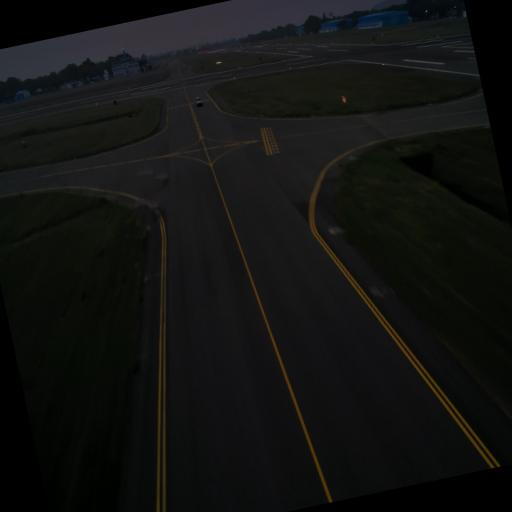on: (328, 222, 335, 232)
